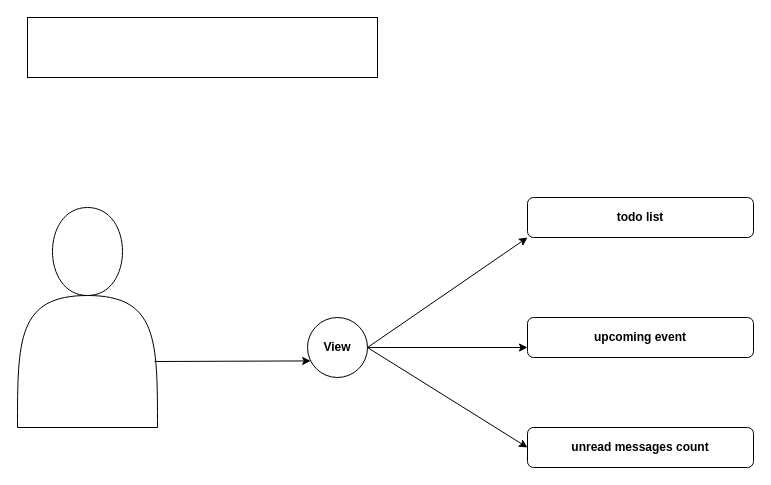
This 771x485 diagram has some shape labels left out. The shapes that lost their labels are listed below. From the top down, each one's box as (x1, y1, x2, y2) in pixels, then its label:
(26, 16, 378, 78): Dashboard page
(16, 206, 158, 428): User
